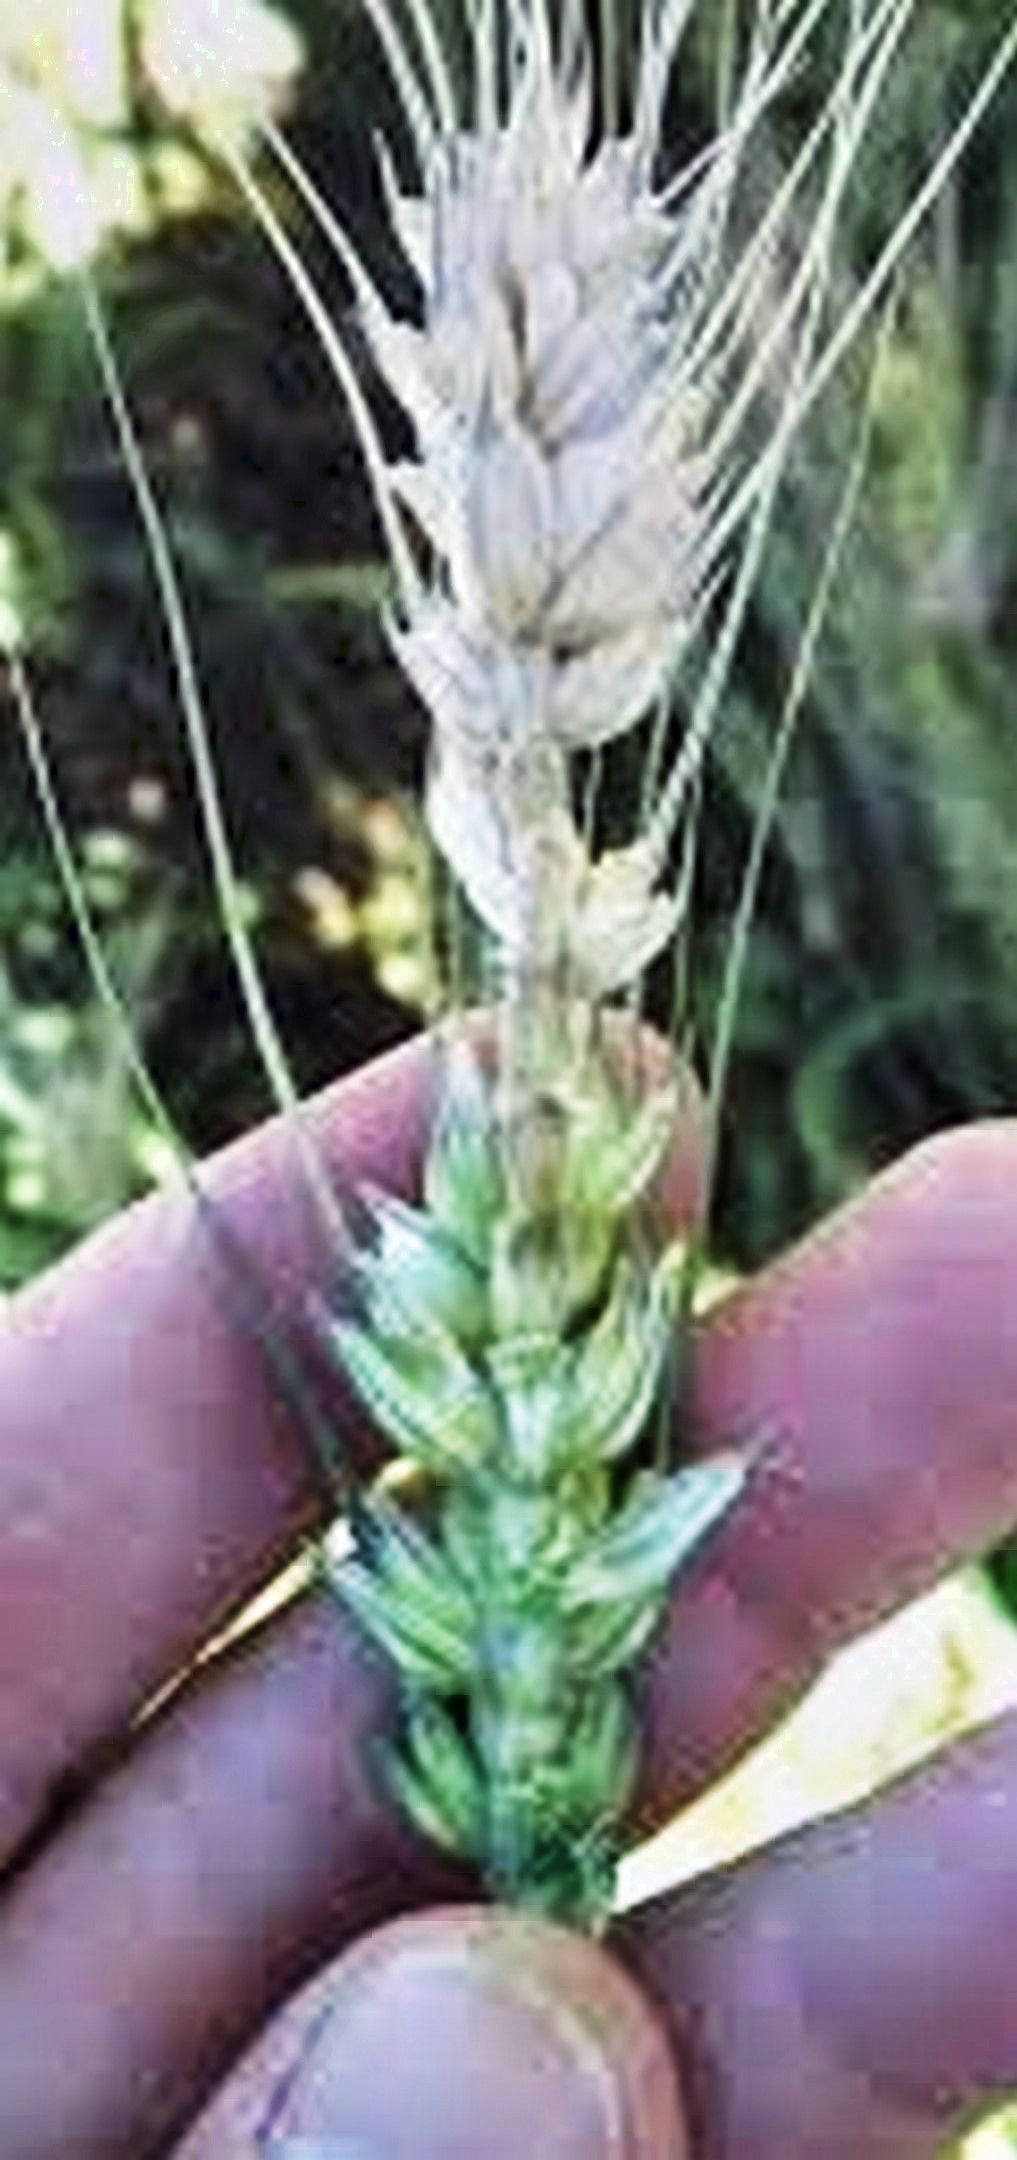Wheat scab: (271, 59, 739, 1912)
